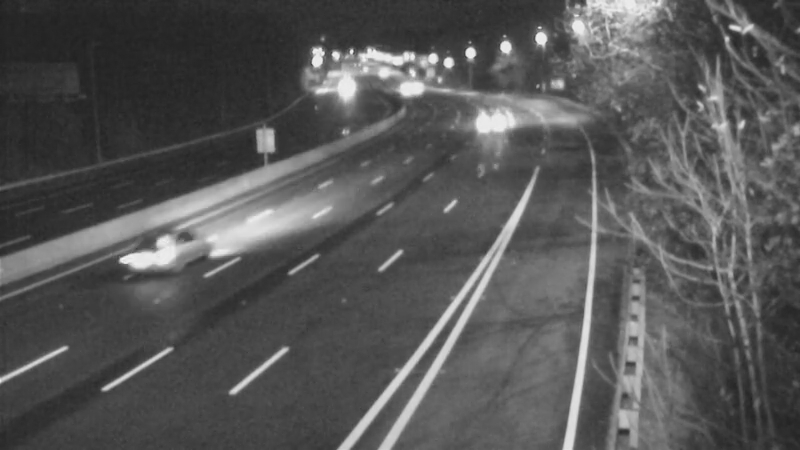vehicle: (113, 209, 193, 289), (385, 64, 435, 114), (377, 64, 427, 114), (467, 96, 517, 146), (322, 60, 372, 110)
